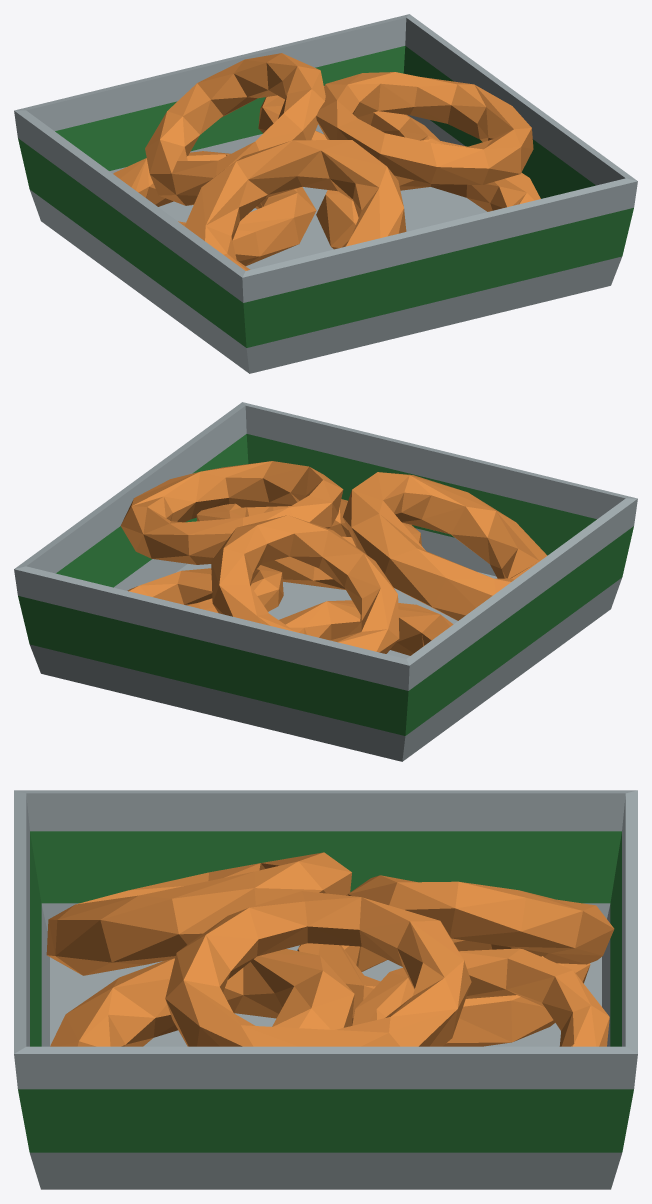
The model's file is Onion.fbx.
3 views of the same model, one above another, from view 1: azimuth 30°, elevation 25°; view 2: azimuth 150°, elevation 25°; view 3: azimuth 270°, elevation 25° (orthographic). The views are drawn at different scales.
Visible parts, largest first — view 1: Onion; view 2: Onion; view 3: Onion.
Boxes of the visible parts, x1,y1,x2,y2 form: Onion: (14, 14, 637, 373); Onion: (14, 402, 637, 761); Onion: (14, 790, 637, 1189).
Size of the model in its own units: 11.47 by 4.07 by 11.47.
